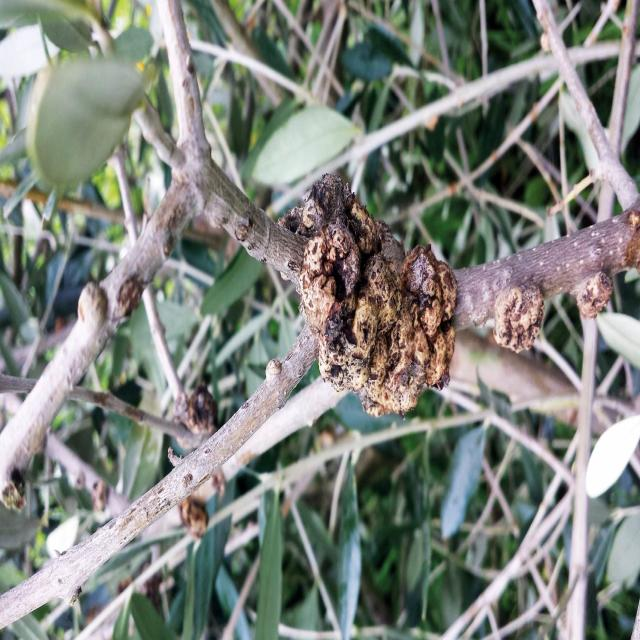Tuberculosis: (280, 174, 457, 416), (493, 286, 544, 353), (173, 382, 218, 436), (571, 271, 612, 319)
